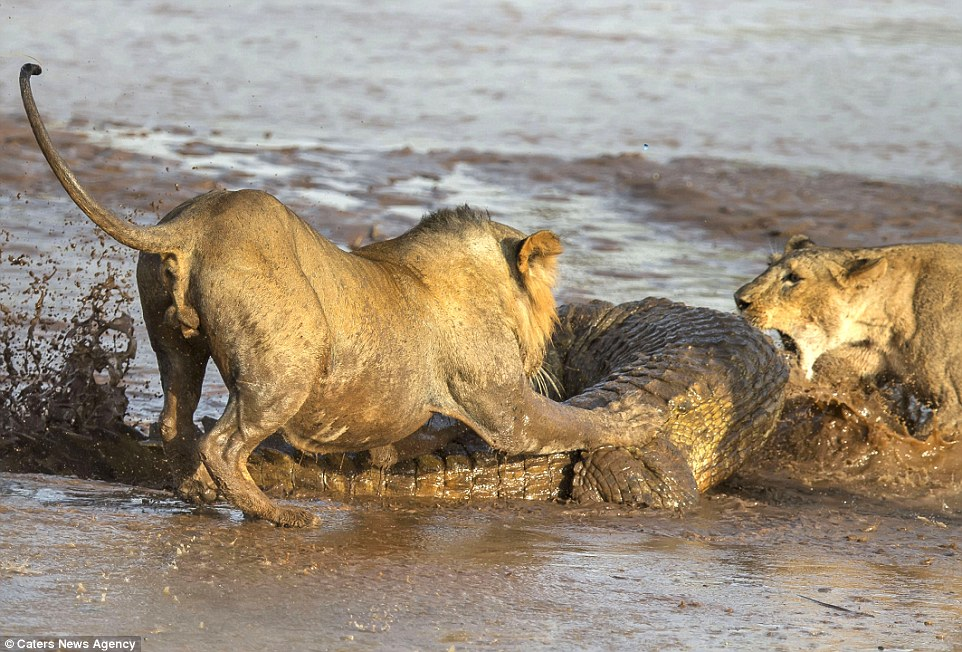Crocodile: (519, 284, 798, 522)
lion: (16, 65, 581, 525), (729, 227, 962, 392)
